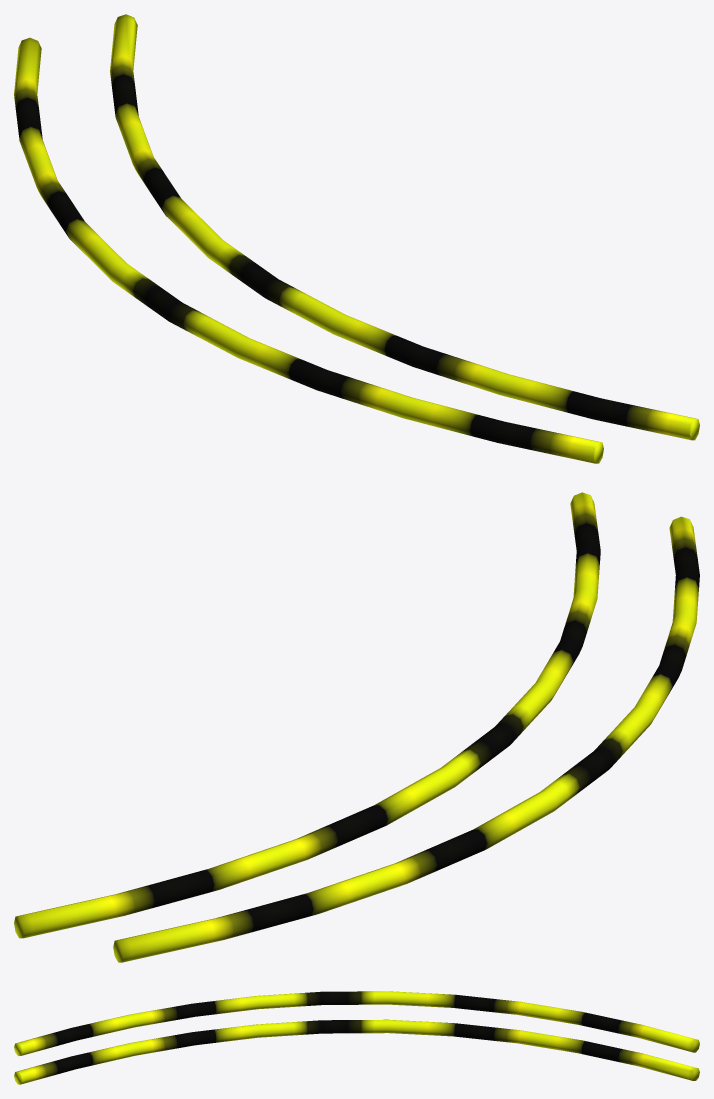
Rendered from pipe3.glb.
The picture shows the model from 3 angles, top to bottom: view 1: azimuth 30°, elevation 25°; view 2: azimuth 150°, elevation 25°; view 3: azimuth 270°, elevation 25°; orthographic projection. The views are drawn at different scales.
Parts seen in each view (by area): view 1: Object_57; view 2: Object_57; view 3: Object_57.
Boxes of the visible parts, x1,y1,x2,y2 form: Object_57: (14, 14, 699, 463); Object_57: (14, 492, 699, 962); Object_57: (14, 991, 699, 1084).
Bounding box in the file's own units: 2.33 × 0.163 × 7.87.
Materials: 1 (1 with a texture image).
